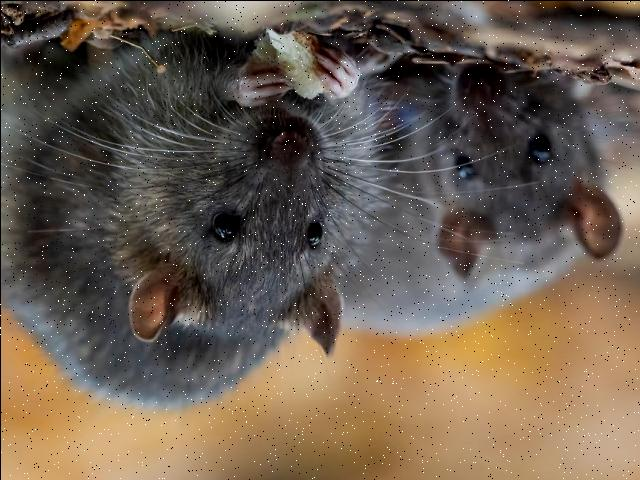Tikus: (0, 26, 352, 412), (382, 74, 618, 330)
